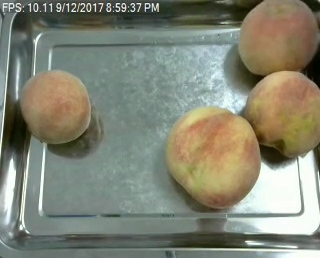Peach: (166, 107, 262, 210), (245, 70, 320, 156), (238, 0, 319, 76), (20, 69, 92, 145)
